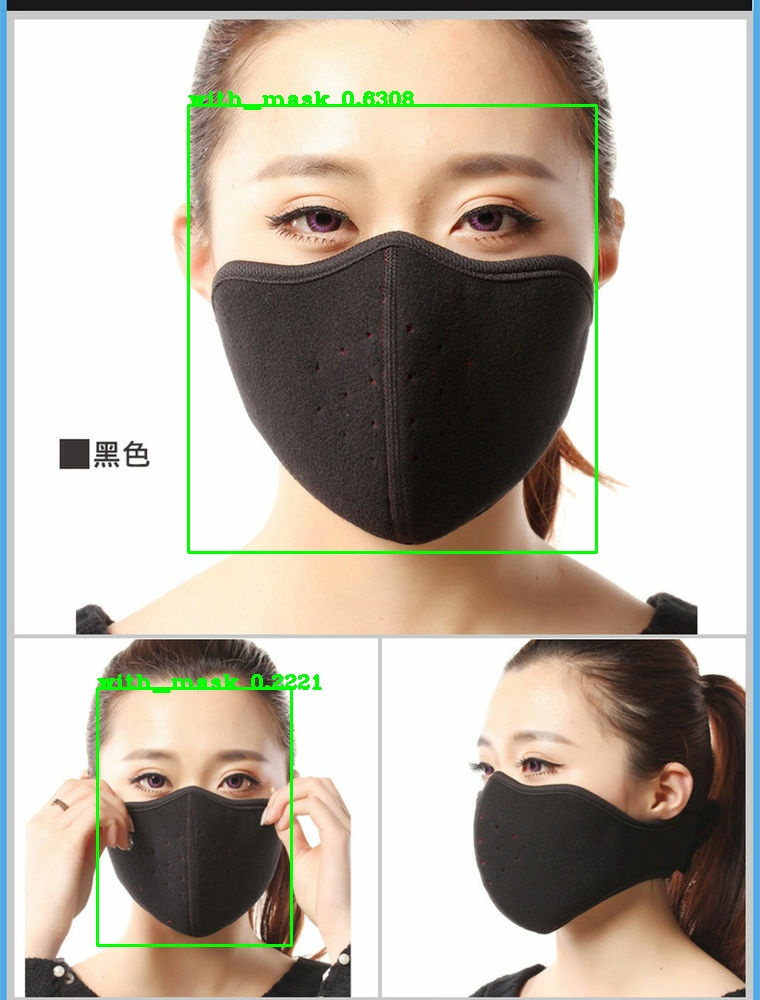with_mask: (178, 37, 627, 553), (58, 648, 327, 949), (466, 640, 721, 938)
